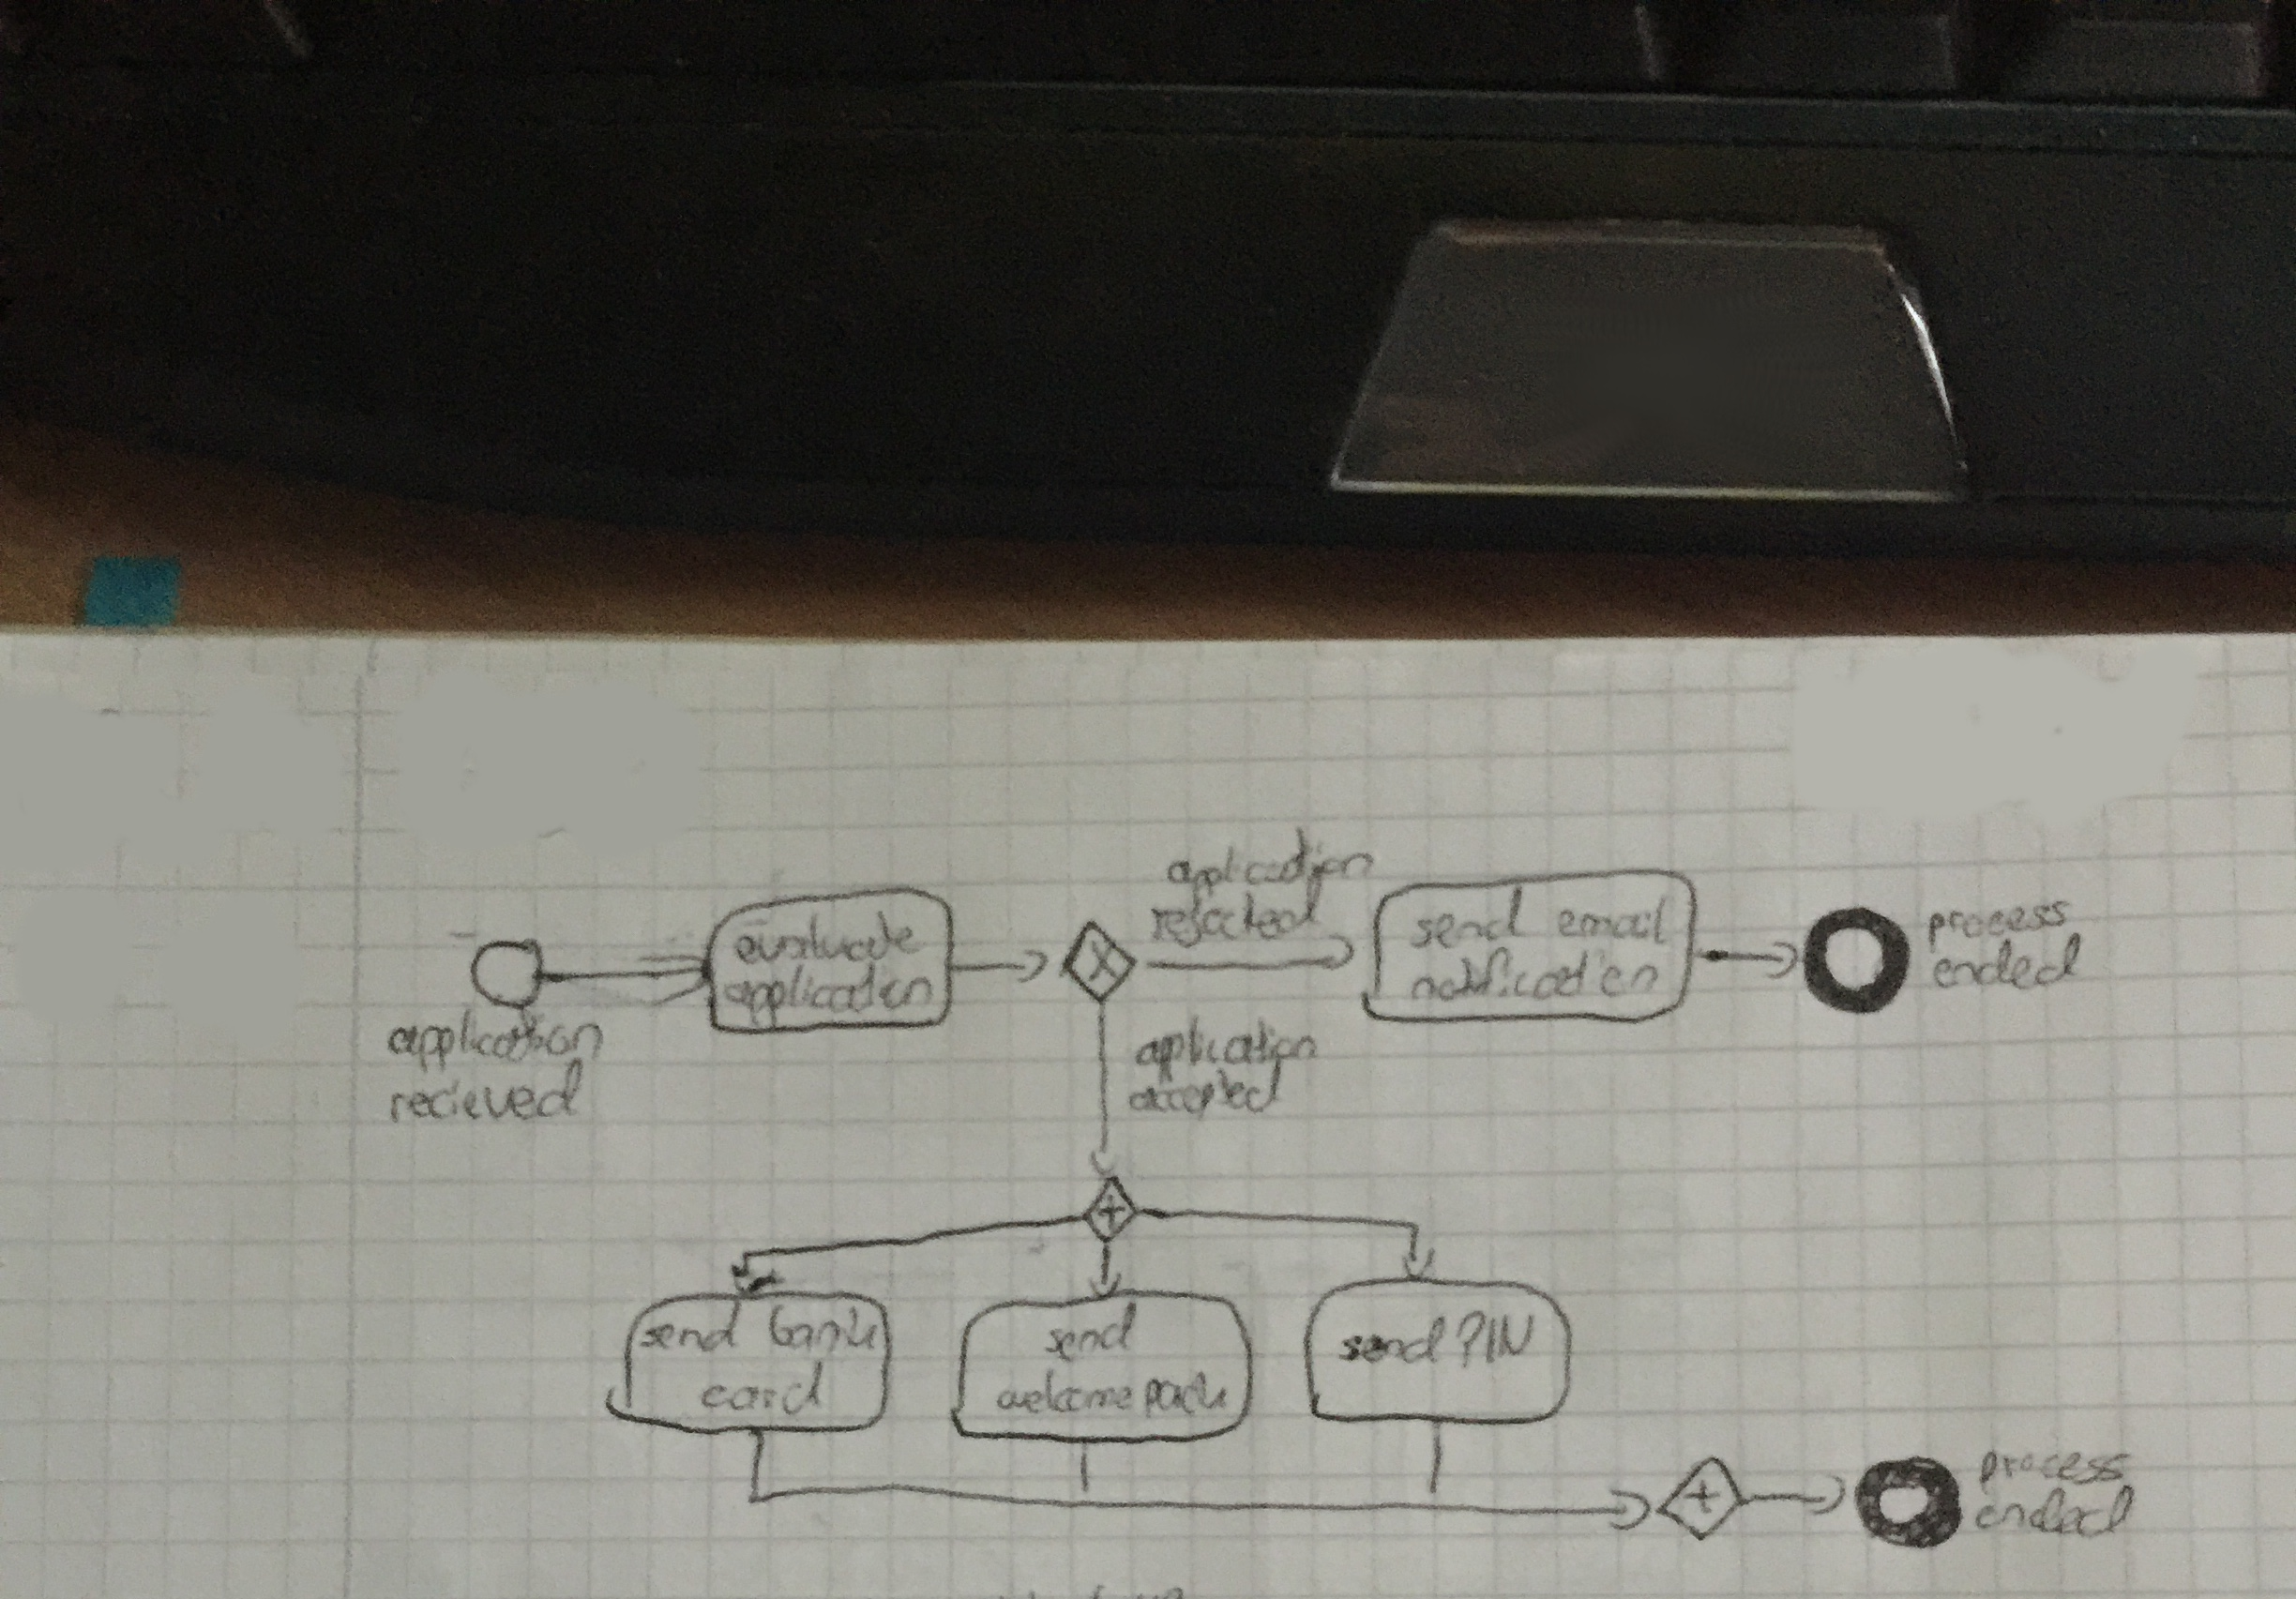PIN: (1457, 1310, 1537, 1369)
accepted: (1122, 1067, 1286, 1130)
application: (1153, 816, 1375, 896), (380, 1004, 612, 1065), (726, 968, 935, 1027), (1132, 1011, 1321, 1074)
bank: (768, 1301, 879, 1357)
card: (701, 1364, 832, 1418)
email: (1544, 882, 1687, 947)
ended: (1968, 1484, 2141, 1543), (1928, 943, 2087, 1003)
evaluate: (735, 910, 925, 970)
notification: (1410, 945, 1670, 1010)
pack: (1138, 1369, 1230, 1418)
process: (1970, 1437, 2132, 1487), (1921, 902, 2071, 952)
recieved: (384, 1064, 600, 1128)
rejected: (1146, 886, 1329, 950)
send: (1404, 895, 1537, 961), (1340, 1315, 1450, 1372), (635, 1303, 752, 1357), (1042, 1306, 1138, 1364)
welcome: (998, 1372, 1134, 1419)
